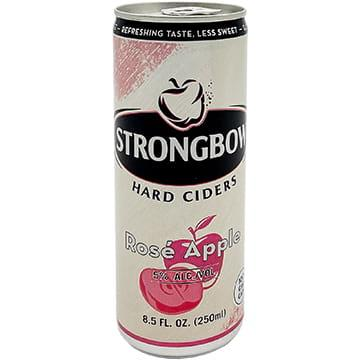metal: (113, 0, 246, 357)
